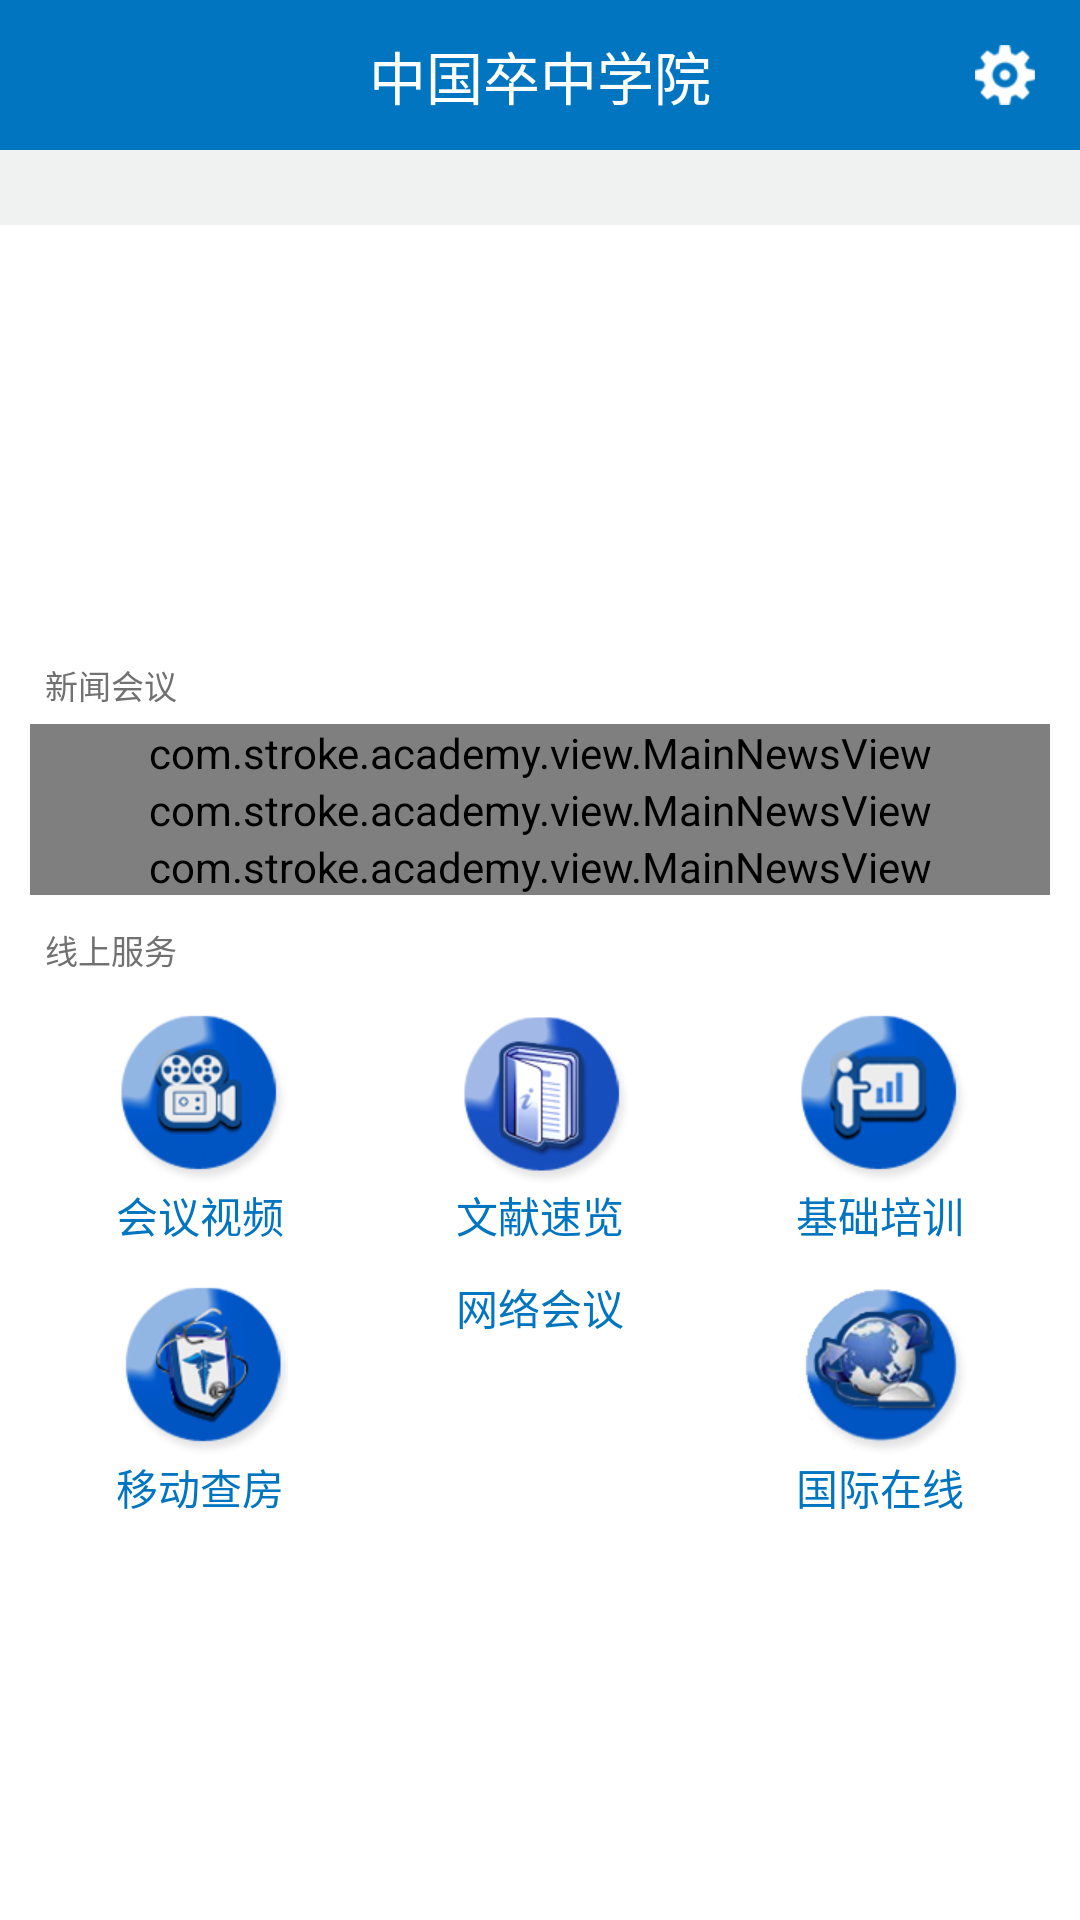

Icon bounding boxes for this 1080px x 1920px phone screenshot, format (x1=x1, y1=y1, x2=x2, y2=y2):
setting: (x1=975, y1=45, x2=1035, y2=105)
